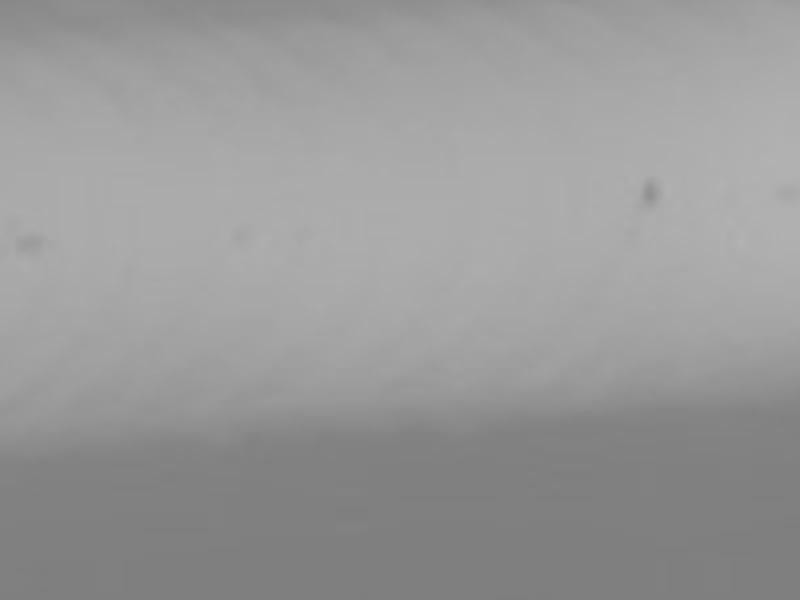defect: (14, 227, 57, 259), (637, 172, 661, 212), (230, 217, 258, 249)
